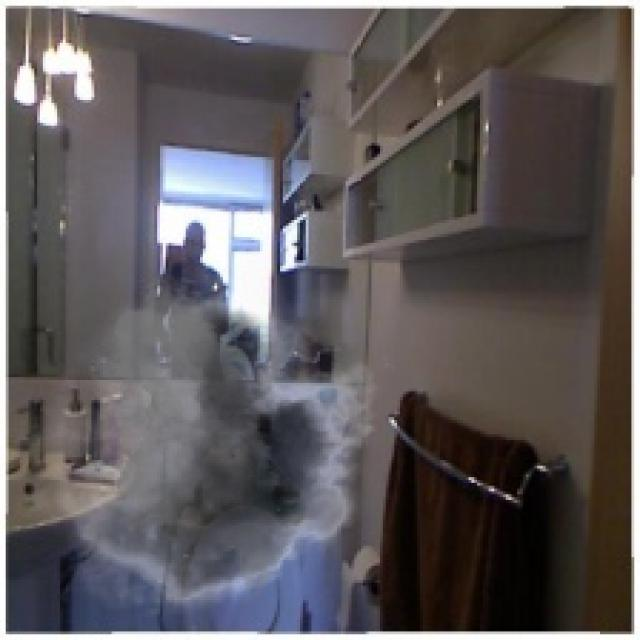smoke: (14, 274, 394, 629)
